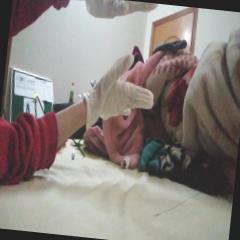gloved: (82, 49, 158, 134), (82, 0, 157, 25)
